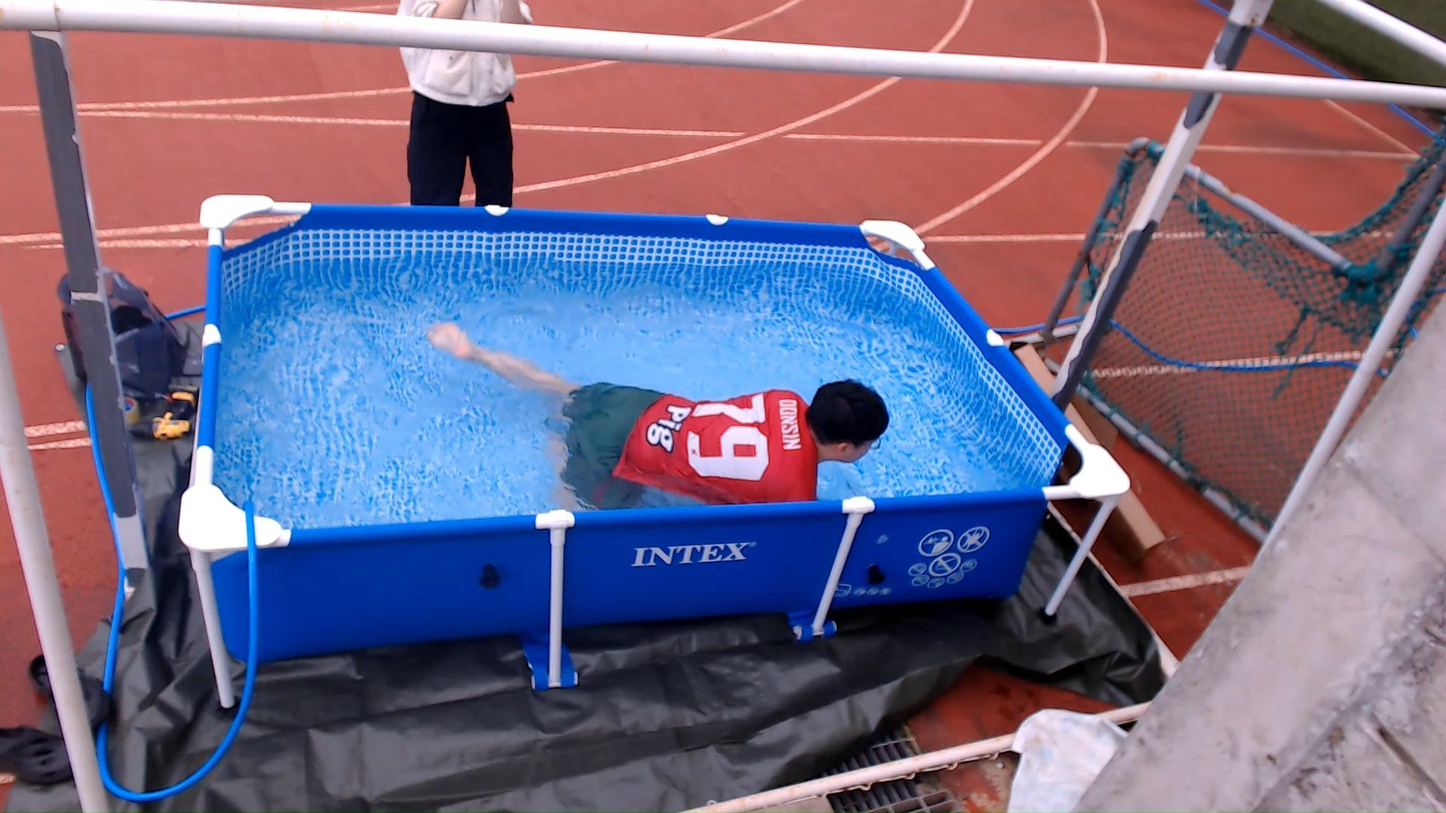Person-out-of-water: (357, 0, 622, 202)
Swimming: (396, 292, 923, 547)
